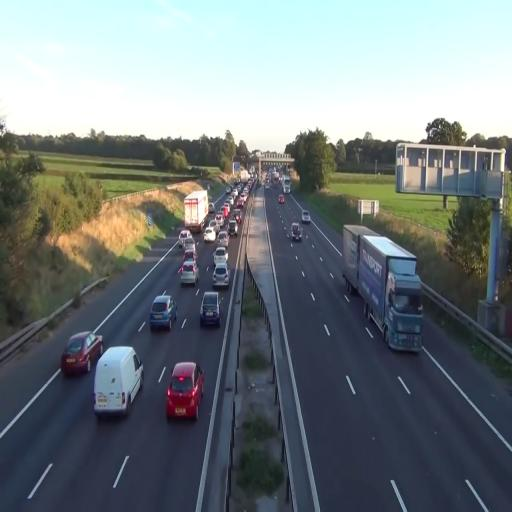vehicle: (341, 222, 424, 355), (93, 344, 144, 418), (166, 361, 204, 421), (60, 330, 104, 377), (183, 190, 209, 237), (150, 293, 177, 331), (200, 291, 221, 329), (178, 252, 198, 288), (212, 249, 230, 286), (202, 219, 218, 243), (290, 222, 303, 242), (226, 217, 238, 236), (302, 212, 310, 222)
